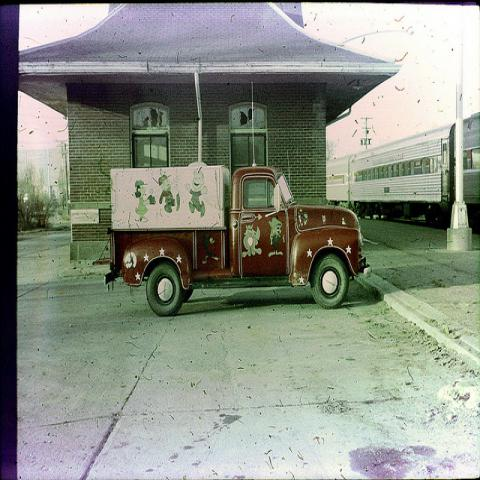truck: (92, 159, 371, 319)
